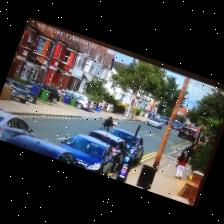person: (174, 153, 185, 179), (181, 144, 194, 162), (100, 117, 114, 131), (95, 101, 101, 112)
